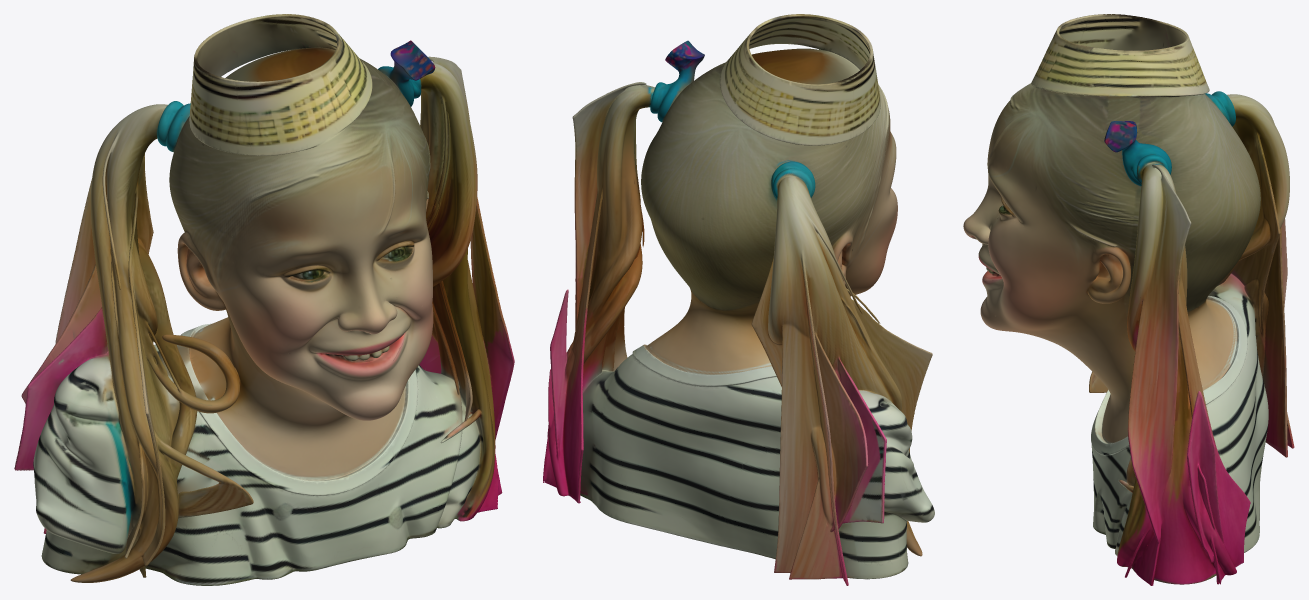
The model's file is Unka.glb.
3 views of the same model, side by side, from view 1: azimuth 30°, elevation 25°; view 2: azimuth 150°, elevation 25°; view 3: azimuth 270°, elevation 25° (orthographic). The views are drawn at different scales.
Parts seen in each view (by area): view 1: texture_pbr_v128; view 2: texture_pbr_v128; view 3: texture_pbr_v128.
Part boxes in pixels (x1,y1,x2,y2): texture_pbr_v128: (14, 14, 514, 585); texture_pbr_v128: (543, 14, 934, 585); texture_pbr_v128: (963, 14, 1294, 585).
Bounding box in the file's own units: 0.7691 × 0.888 × 0.5839.
Materials: 1 (1 with a texture image).
